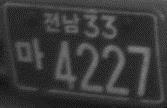2: (103, 44, 131, 96), (77, 42, 103, 92)
3: (100, 13, 117, 39), (81, 13, 99, 37)
4: (51, 39, 77, 90)
7: (127, 43, 152, 96)
마: (14, 35, 44, 71)
전남_O: (42, 11, 81, 34)
